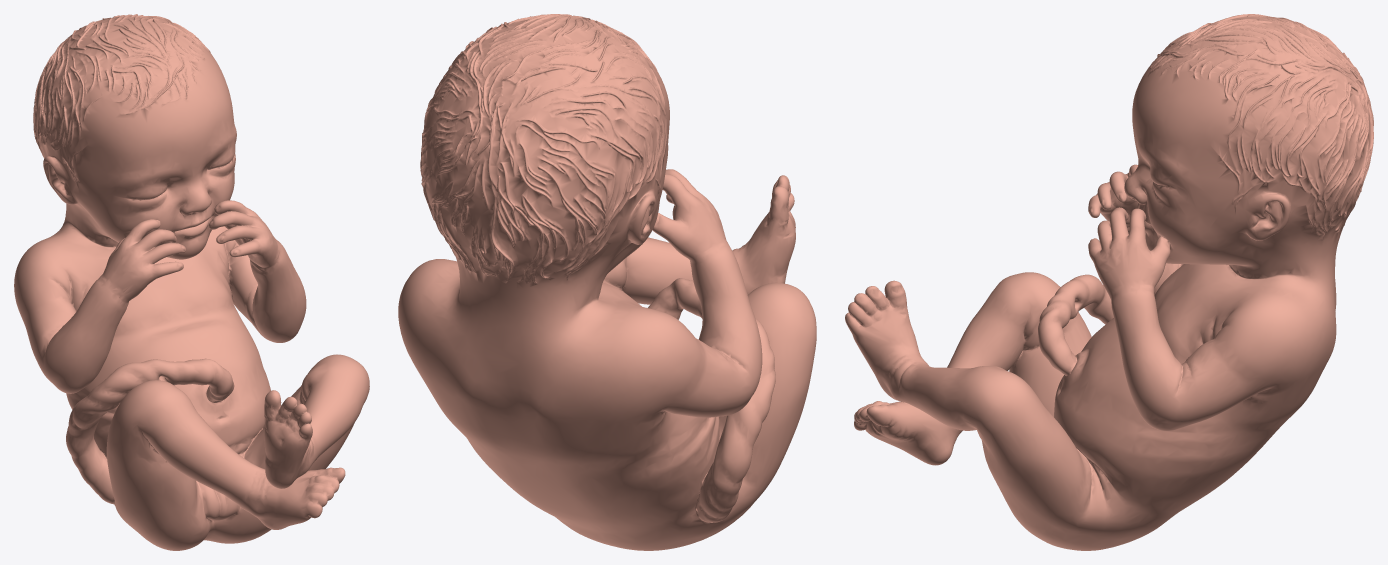
The model's file is semaine-27.glb.
The picture shows the model from 3 angles, left to right: view 1: azimuth 30°, elevation 25°; view 2: azimuth 150°, elevation 25°; view 3: azimuth 270°, elevation 25°; orthographic projection. The views are drawn at different scales.
Size of the model in its own units: 1.09 by 1.9 by 1.78.
